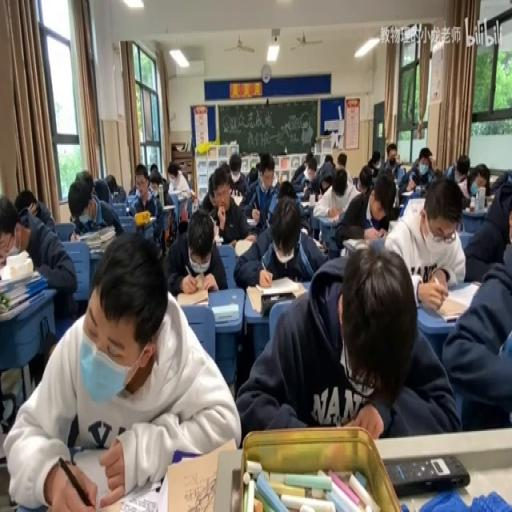calculator: (63, 444, 154, 508), (164, 441, 238, 512), (244, 278, 306, 314), (428, 282, 478, 322), (0, 266, 40, 292), (77, 226, 115, 253), (176, 287, 208, 307), (212, 302, 238, 322), (234, 236, 256, 256), (342, 238, 368, 252), (317, 213, 340, 225), (398, 199, 412, 216), (461, 206, 486, 215), (298, 195, 316, 206), (312, 238, 326, 250), (89, 245, 104, 256), (230, 194, 243, 206), (246, 216, 258, 225), (400, 189, 414, 196), (467, 280, 481, 287), (213, 234, 222, 244), (413, 183, 422, 192), (162, 204, 174, 210)
paper: (6, 235, 237, 509), (234, 242, 450, 439), (0, 192, 77, 326), (386, 176, 466, 296), (234, 192, 324, 286), (164, 206, 226, 296), (461, 174, 512, 280), (332, 166, 386, 249), (129, 164, 165, 248), (403, 145, 435, 193), (224, 152, 249, 198), (294, 154, 320, 196), (166, 160, 192, 200), (380, 141, 402, 183), (100, 173, 126, 202), (447, 152, 472, 181), (200, 174, 217, 216), (14, 191, 38, 219), (489, 171, 509, 192), (367, 148, 381, 176), (276, 179, 295, 199), (358, 168, 372, 193), (332, 171, 346, 195), (246, 165, 260, 186), (128, 173, 141, 195), (476, 174, 490, 194), (218, 159, 230, 178), (337, 152, 346, 168), (393, 182, 399, 206), (148, 162, 158, 176), (322, 154, 332, 165), (421, 154, 430, 164), (186, 170, 192, 184), (255, 160, 261, 170), (330, 162, 336, 171)
person: (386, 452, 470, 496), (0, 462, 15, 511)
